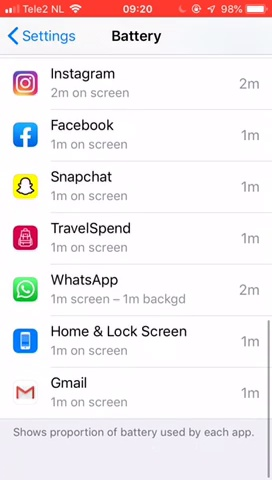app: (12, 62, 264, 102), (12, 113, 264, 153), (12, 165, 264, 205), (13, 217, 265, 257), (11, 270, 263, 310), (11, 323, 263, 363), (9, 373, 261, 413)
